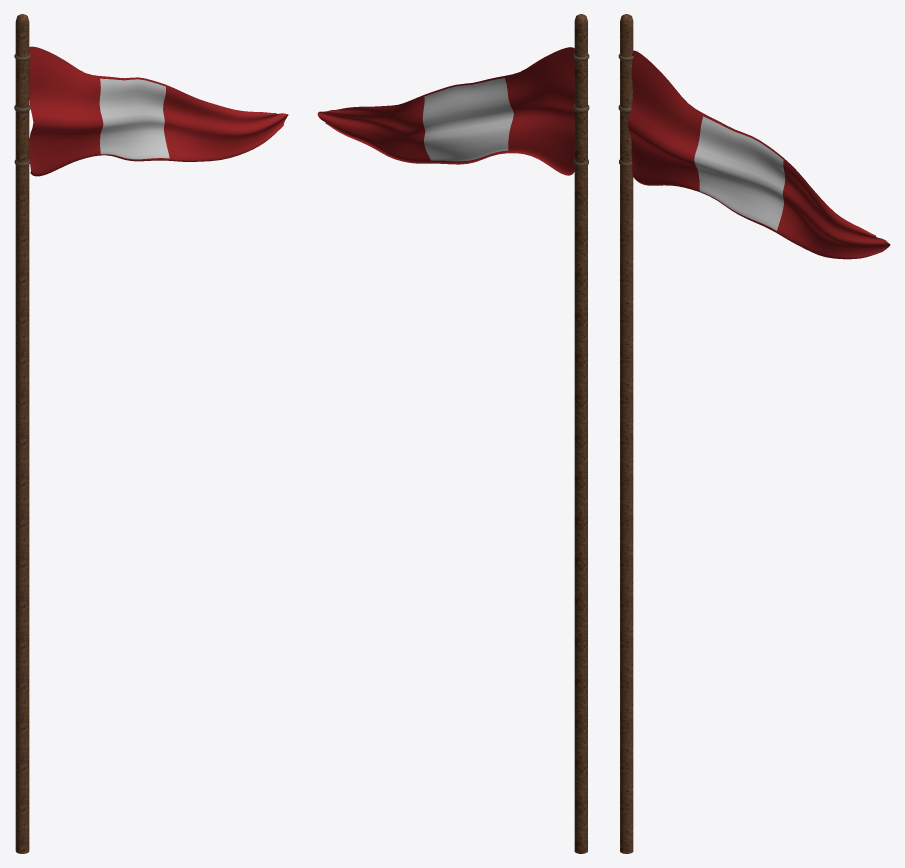
The model's file is objFlag.obj.
3 renders of one model, left to right at view 1: azimuth 30°, elevation 25°; view 2: azimuth 150°, elevation 25°; view 3: azimuth 330°, elevation 25°, orthographic.
Parts seen in each view (by area): view 1: Flag flag1, wood Flag; view 2: Flag flag1, wood Flag; view 3: Flag flag1, wood Flag.
Part boxes in pixels (bbox=[...]): Flag flag1: bbox=[29, 46, 288, 176]; wood Flag: bbox=[14, 14, 30, 853]; Flag flag1: bbox=[317, 47, 574, 175]; wood Flag: bbox=[573, 14, 589, 853]; Flag flag1: bbox=[627, 50, 890, 259]; wood Flag: bbox=[618, 14, 633, 853].
Size of the model in its own units: 7.08 by 20.8 by 0.8603.
